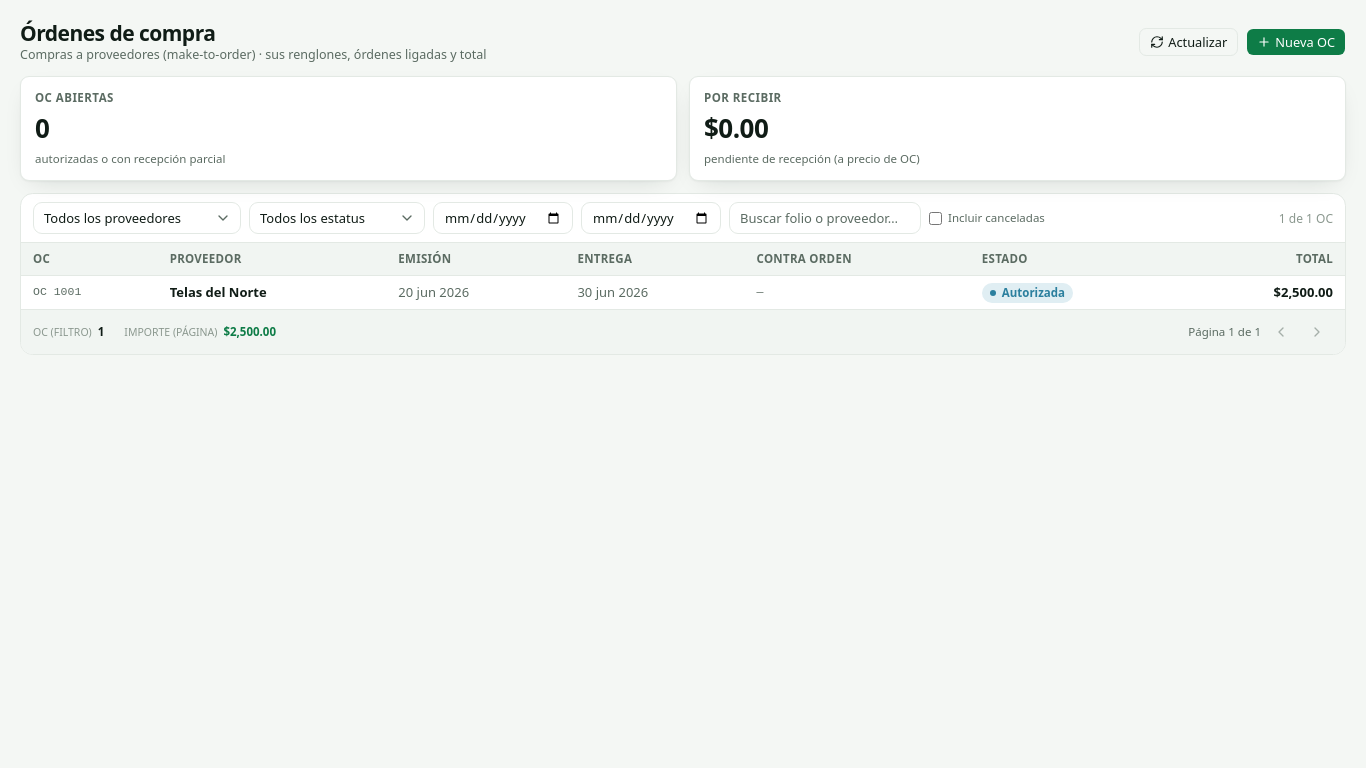
Scenario: OrdenesCompraPagina (F4-E2) › un ADMIN (roles.administrar) SÍ ve "Editar" en una OC autorizada
What coordinates should you click on to do the following:
click the row with test id "fila-oc"
I would click on:
 (218, 292)
Its box is [21,275,1345,309].
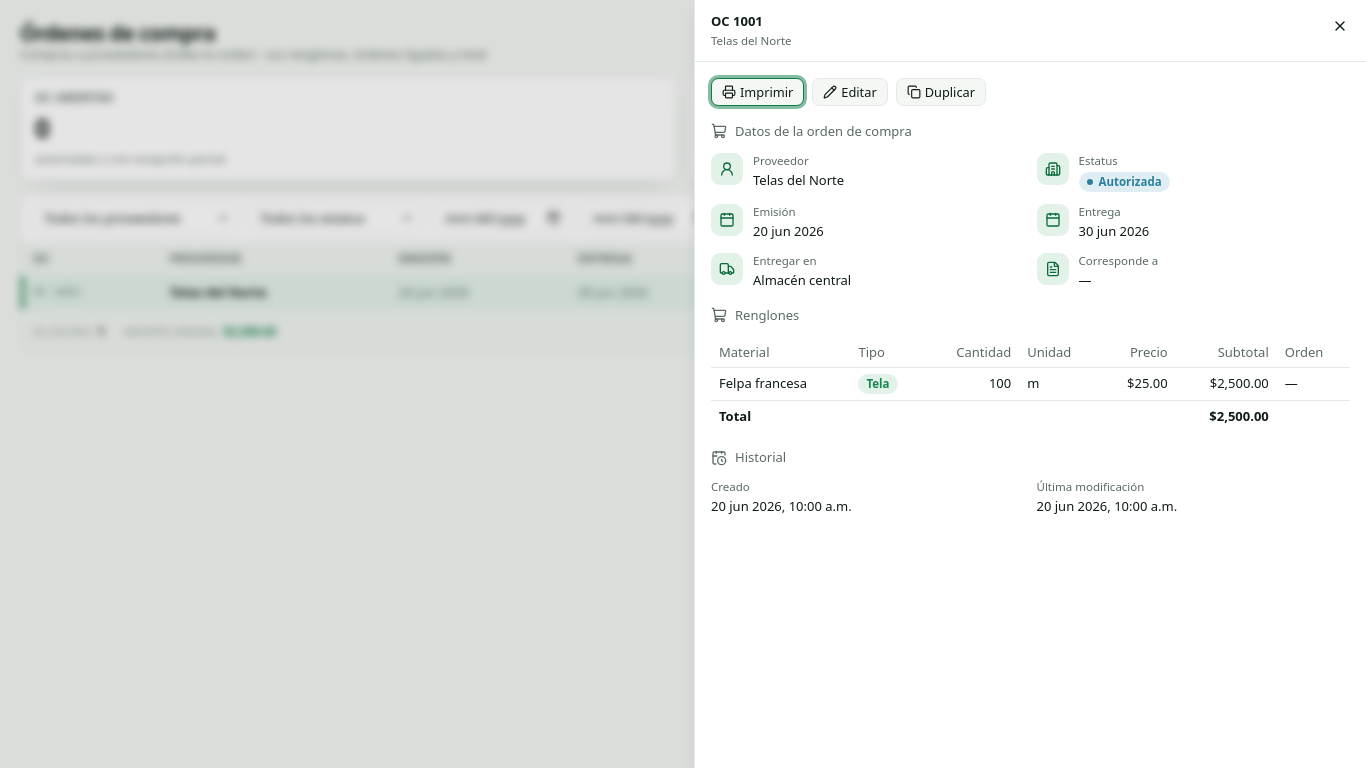
Expected: the button with test id "editar-oc" is shown, [812,78,888,106]
